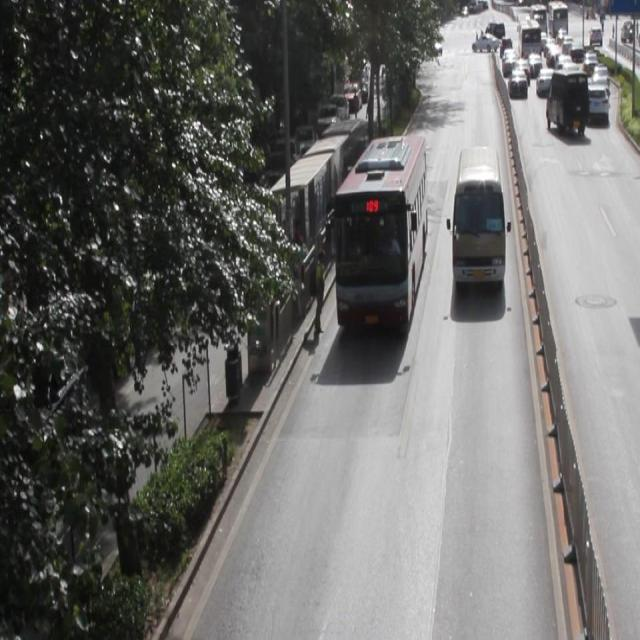truck: (450, 145, 504, 286)
van: (335, 133, 423, 327)
